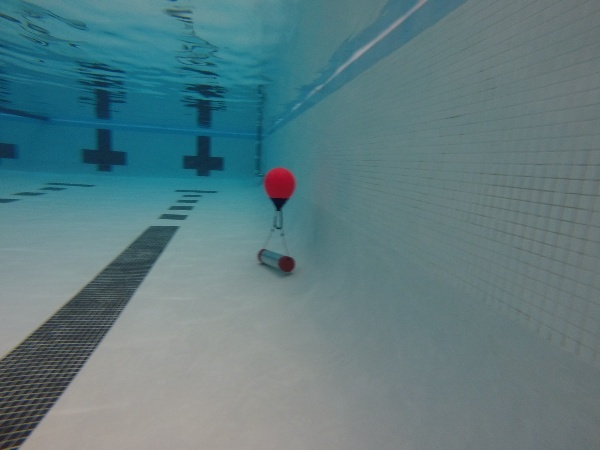buoy_red: (260, 165, 298, 215)
